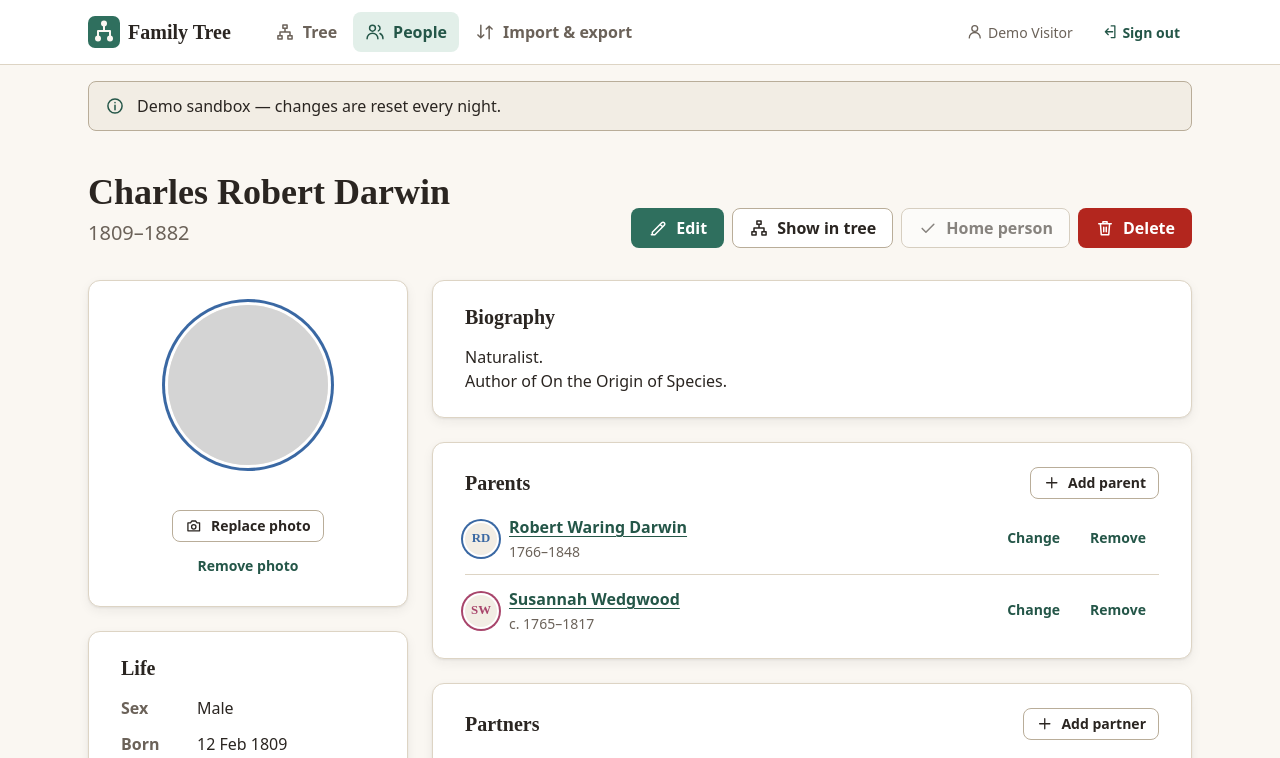
Test case: the kind of a parent link can be changed
Click the button named "Change Robert Waring Darwin" at (1034, 539), box x1=994 y1=523 x2=1073 y2=555
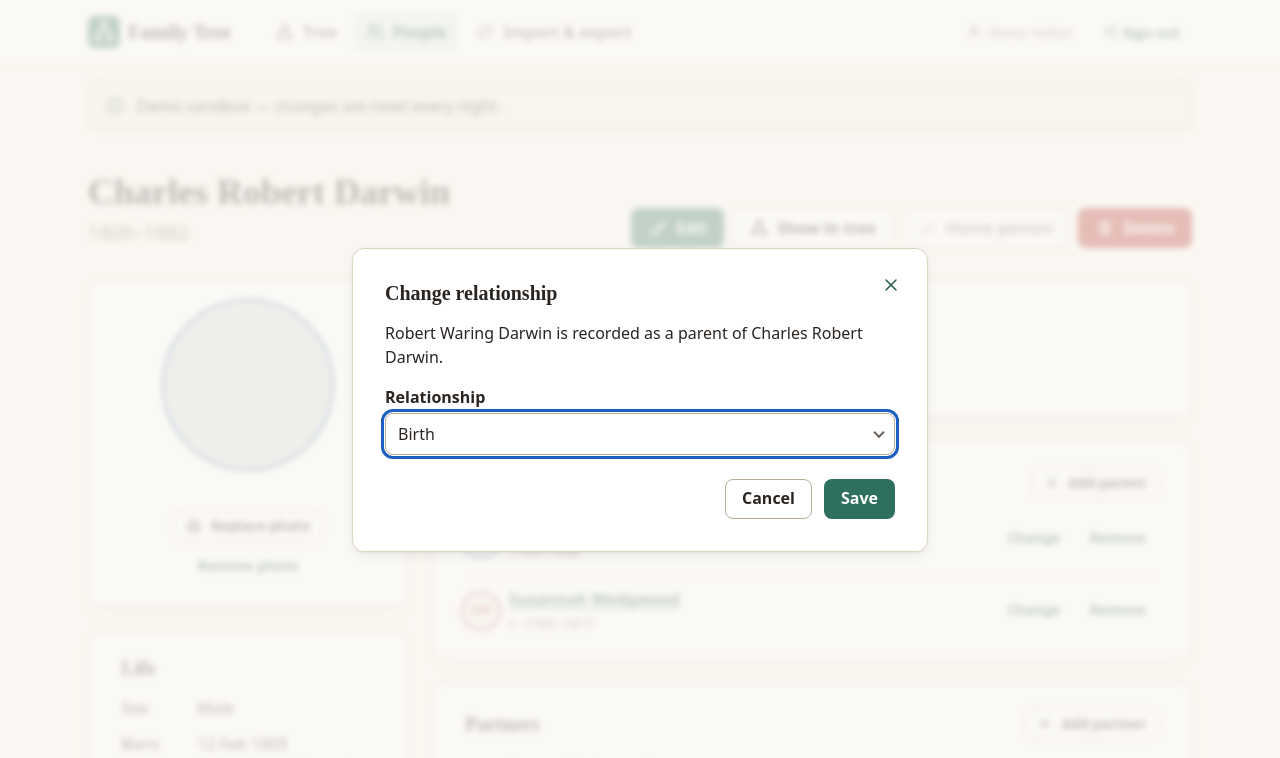
Check: the dialog "Change relationship" shows "Robert Waring Darwin is recorded as a parent of Charles Robert Darwin.", box x1=352 y1=248 x2=928 y2=552
Select "Foster" in the dropdown labelled "Relationship" at (640, 434), box x1=385 y1=413 x2=895 y2=455
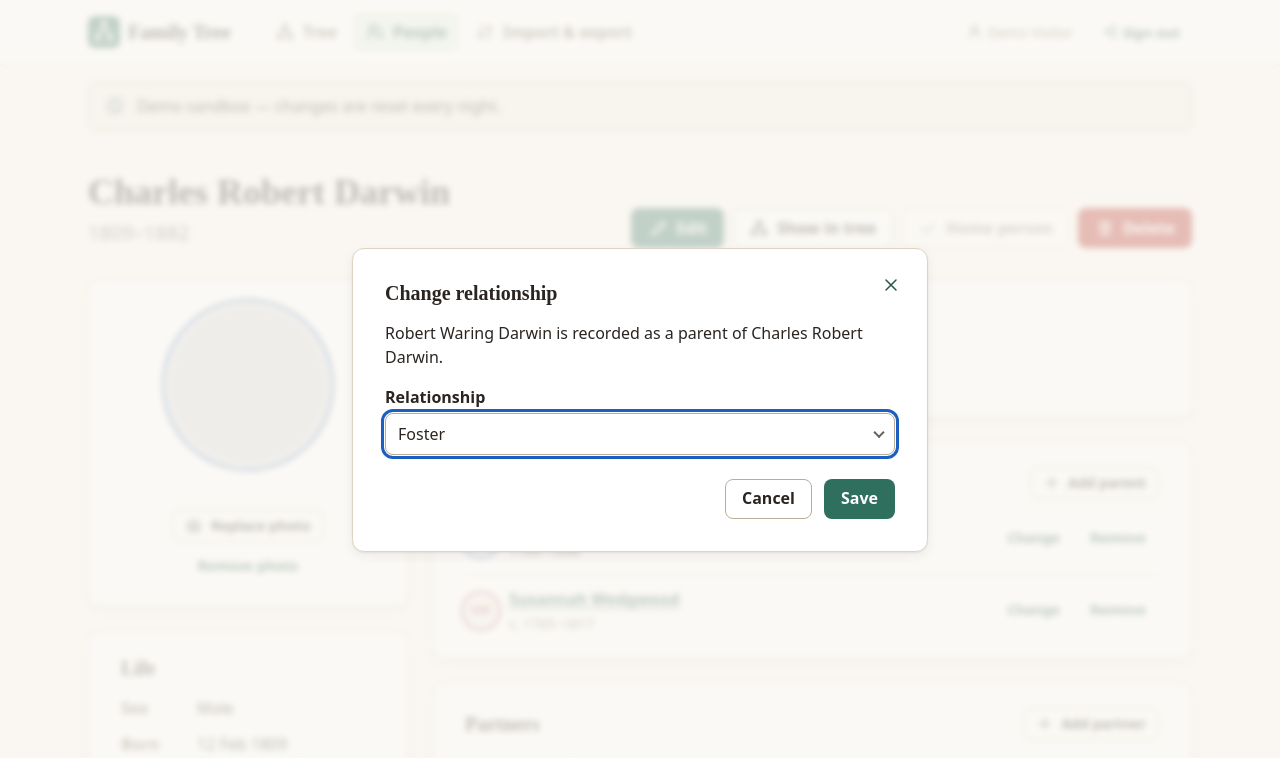
Click the button "Save" at (860, 499), box x1=824 y1=479 x2=895 y2=519
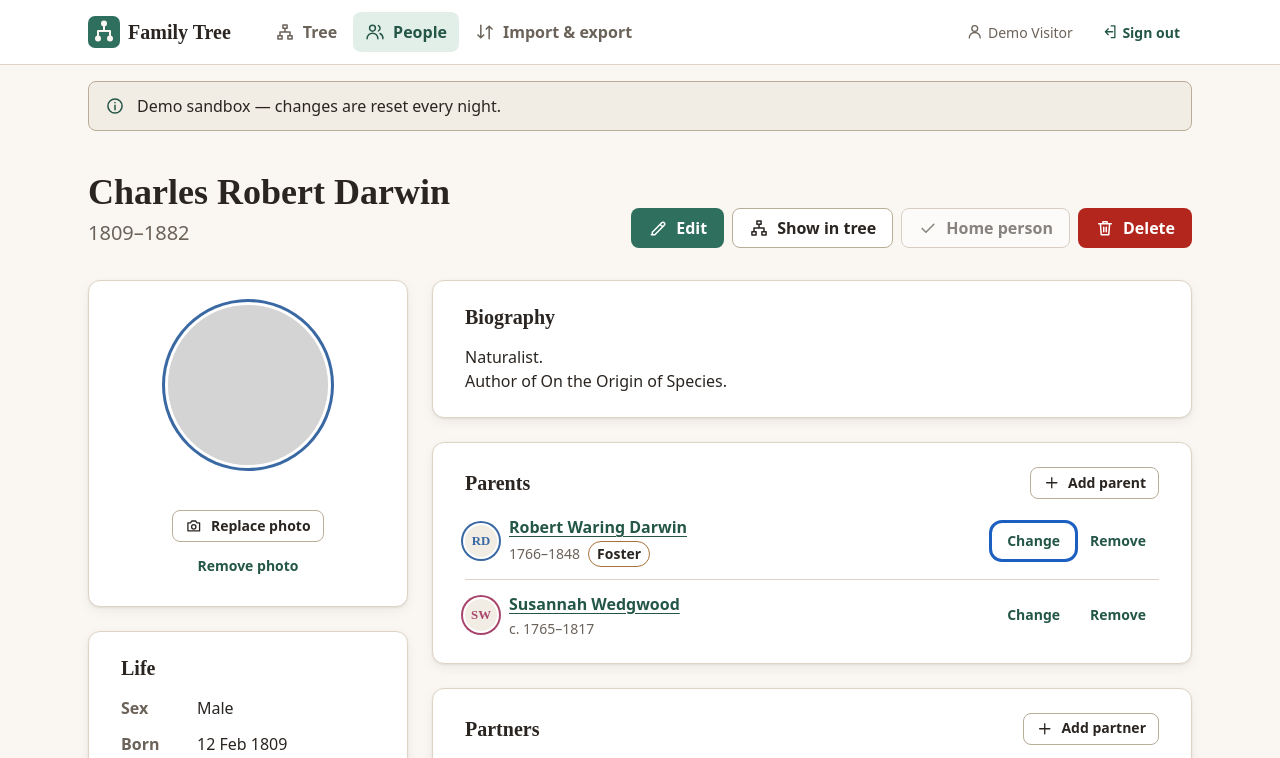
Check: the text "Foster" is shown, box x1=588 y1=541 x2=650 y2=567
